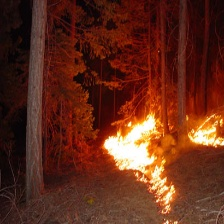fire: (96, 113, 191, 218), (180, 105, 224, 150)
